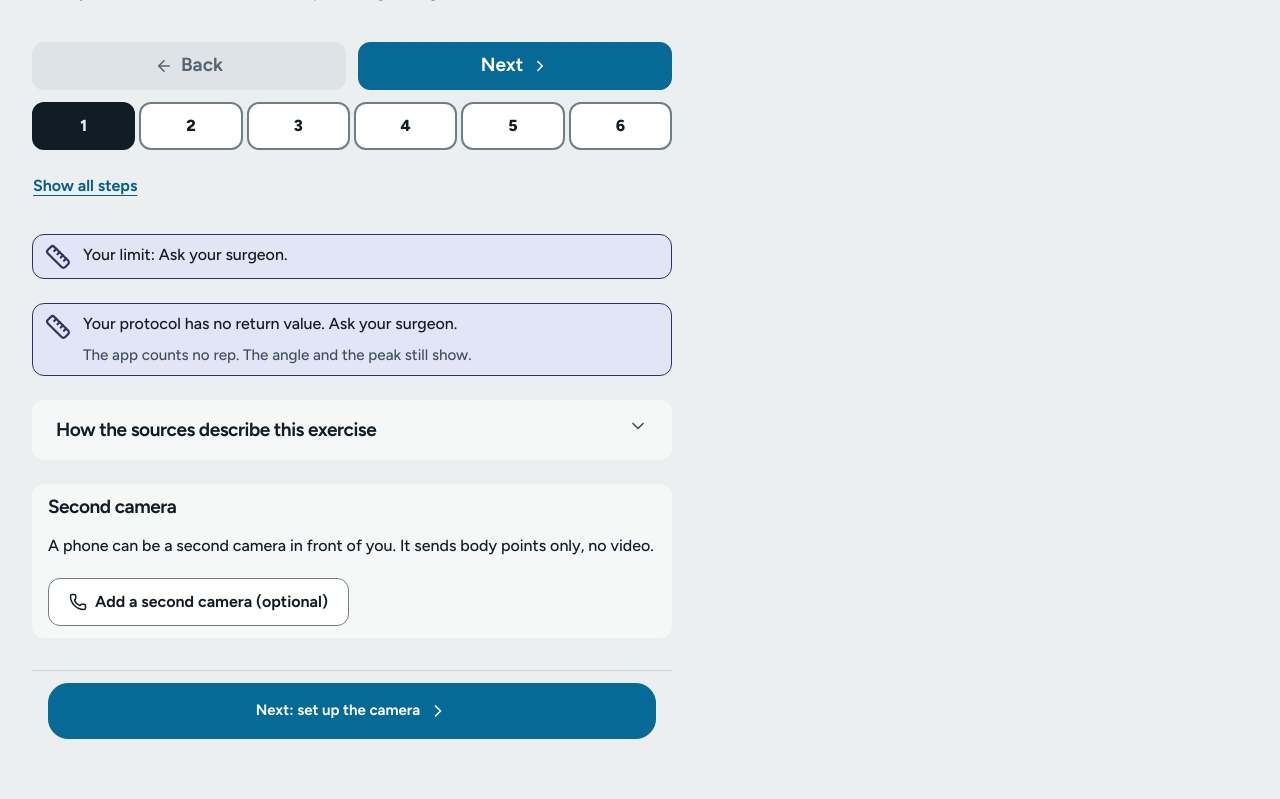
Test case: Setup with the optional second camera step › opens the pairing screen with one h1 that has the focus, and a three item step list
(page scrolled)
Click the button "Add a second camera (optional)" at (198, 602), box [48,578,349,626]
(page scrolled)
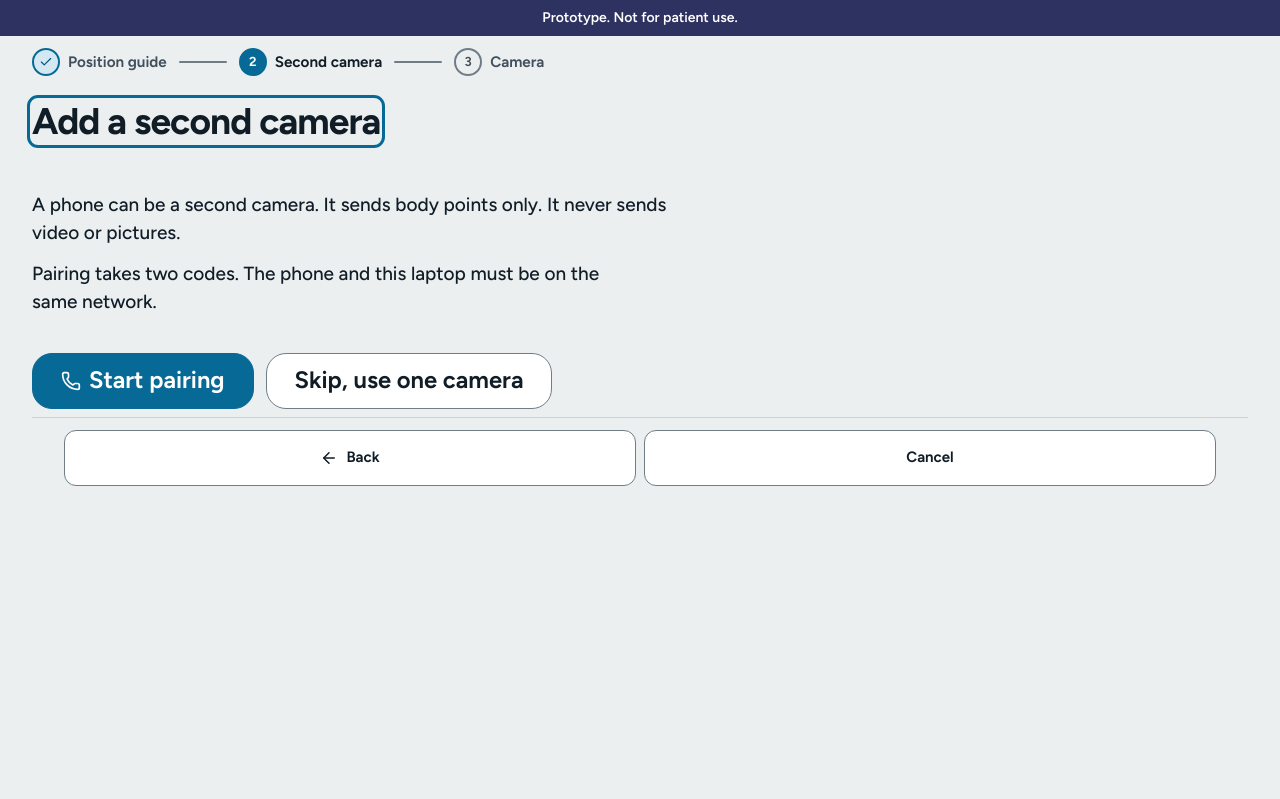
Expected: the number of headings is 1, [32,100,380,143]
Expected: the list item "2 Second camera" is shown, [239,48,382,76]
